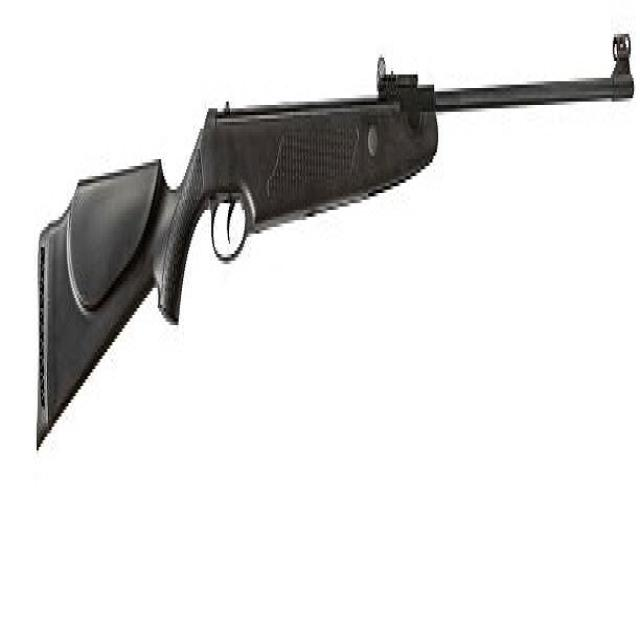rifle: (31, 15, 638, 467)
